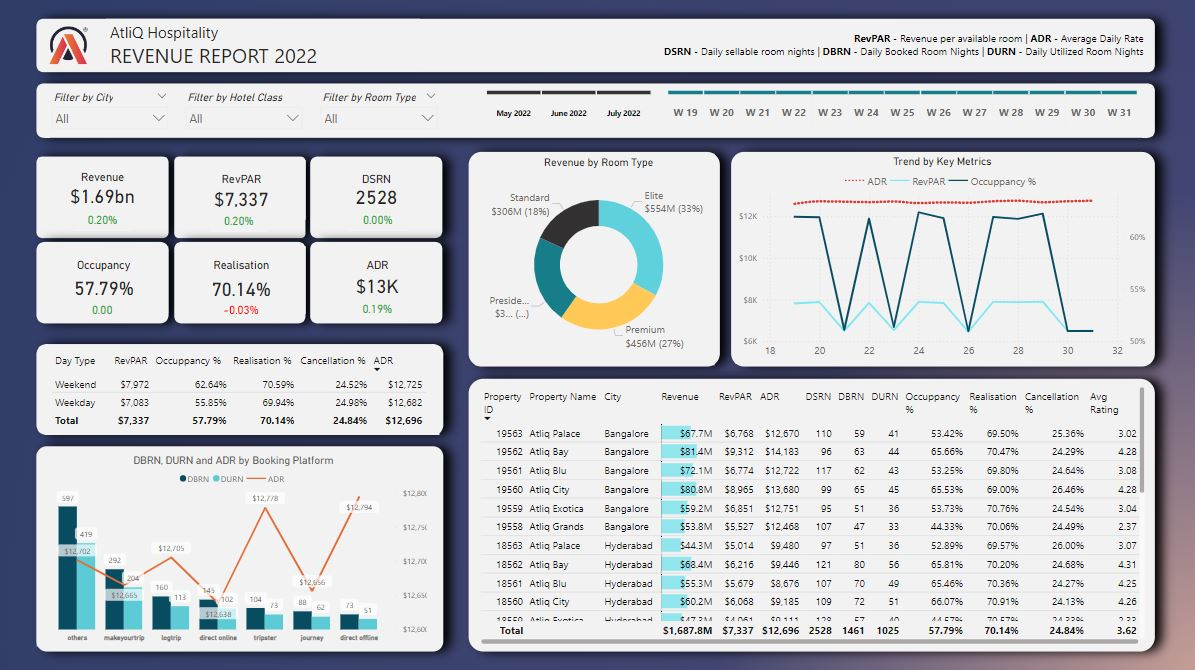

The dashboard page shown, as its layout file describes it:
{"tool":"powerbi","page":{"name":"Revenue Report","canvas":[1920,1080],"ordinal":0},"visuals":[{"type":"card","title":"Revenue","fields":{"Values":["base_measures.Revenue"]},"box":[63.8,252.5,206.2,95],"z":0},{"type":"card","title":"DSRN","fields":{"Values":["base_measures.DSRN"]},"box":[502.5,256.2,206.2,91.2],"z":0},{"type":"card","title":"Occupancy","fields":{"Values":["base_measures.Occuppancy %"]},"box":[66.3,394,206,105.8],"z":0},{"type":"tableEx","fields":{"Values":["dim_hotels.property_id","dim_hotels.property_name","dim_hotels.city","base_measures.Revenue","base_measures.RevPAR","base_measures.ADR","base_measures.DSRN","base_measures.DBRN","base_measures.DURN","base_measures.Occuppancy %","base_measures.Realisation %","base_measures.Cancellation Rate %"]},"box":[766,614,1074,422],"z":0},{"type":"slicer","fields":{"Values":["dim_hotels.city"]},"box":[76,140,206,72],"z":1000,"group":"g1"},{"type":"lineChart","title":"Trend by Key Metrics","fields":{"Y":["base_measures.ADR","base_measures.RevPAR"],"Category":["dim_date.wn"],"Y2":["base_measures.Occuppancy %"]},"box":[1180,248,662,334],"z":1000},{"type":"card","title":"RevPAR","fields":{"Values":["base_measures.RevPAR"]},"box":[285,256.2,206.2,95],"z":1000},{"type":"card","fields":{"Values":["base_measures.DSRN WoW Change %"]},"box":[557.5,333.8,98.8,36.2],"z":1000},{"type":"card","fields":{"Values":["base_measures.Revenue WoW Change %"]},"box":[122.5,336.2,90,33.8],"z":1000},{"type":"card","fields":{"Values":["base_measures.Occupancy WoW Change %"]},"box":[92.9,478.8,148.8,35.2],"z":1000},{"type":"slicer","fields":{"Values":["dim_rooms.room_class"]},"box":[506.4,140,206.5,71.2],"z":2000,"group":"g1"},{"type":"donutChart","title":"Revenue by Room Type","fields":{"Y":["base_measures.Revenue"],"Series":["dim_rooms.room_class"],"Category":["dim_rooms.room_class"]},"box":[764,246,382,338],"z":2000},{"type":"card","title":"Realisation","fields":{"Values":["base_measures.Realisation %"]},"box":[285.3,394,206,108],"z":2000},{"type":"card","title":"ADR","fields":{"Values":["base_measures.ADR"]},"box":[503.3,394,206,100.1],"z":2000},{"type":"card","fields":{"Values":["base_measures.RevPAR WoW Change %"]},"box":[337.5,335,93.8,35],"z":3000},{"type":"card","fields":{"Values":["base_measures.ADR WoW Change %"]},"box":[532,475.4,148.8,38.6],"z":3000},{"type":"card","fields":{"Values":["base_measures.Realisation WoW Change %"]},"box":[313.9,478,148.8,36],"z":3000},{"type":"lineClusteredColumnComboChart","fields":{"Category":["fact_bookings.booking_platform"],"Y":["base_measures.DBRN","base_measures.DURN"],"Y2":["base_measures.ADR"]},"box":[62,726,634,308],"z":3000},{"type":"slicer","fields":{"Values":["dim_date.Week Num"]},"box":[1046,138,800,78],"z":4000},{"type":"tableEx","fields":{"Values":["dim_date.day_type","base_measures.RevPAR","base_measures.Occuppancy %","base_measures.Realisation %","base_measures.Cancellation %","base_measures.ADR"]},"box":[80,556,626,140],"z":4000},{"type":"image","box":[70,36,86,72],"z":6000},{"type":"slicer","fields":{"Values":["dim_hotels.category"]},"box":[291,140,206.5,71.2],"z":7000,"group":"g1"},{"type":"textbox","box":[1052,44,786,60],"z":7000},{"type":"group","id":"g1","title":"Group 10","box":[76,140,638,72],"z":8000},{"type":"textbox","box":[173.3,30,500,85],"z":9000},{"type":"slicer","fields":{"Values":["dim_date.mmm yy (bins)"]},"box":[756,138,312,80],"z":11505}]}

Visuals, with their boxes in screenshot pixels (x1, y1, x2, y2), scaled from the page's 1920x1080 canvas onto the 1195x670 screenshot:
"Revenue" card: region(40, 157, 168, 216)
"DSRN" card: region(313, 159, 441, 216)
"Occupancy" card: region(41, 244, 169, 310)
tableEx - dim_hotels.property_id x dim_hotels.property_name: region(477, 381, 1145, 643)
slicer - dim_hotels.city: region(47, 87, 176, 132)
"Trend by Key Metrics" lineChart: region(734, 154, 1146, 361)
"RevPAR" card: region(177, 159, 306, 218)
card - base_measures.DSRN WoW Change %: region(347, 207, 408, 230)
card - base_measures.Revenue WoW Change %: region(76, 209, 132, 230)
card - base_measures.Occupancy WoW Change %: region(58, 297, 150, 319)
slicer - dim_rooms.room_class: region(315, 87, 444, 131)
"Revenue by Room Type" donutChart: region(476, 153, 713, 362)
"Realisation" card: region(178, 244, 306, 311)
"ADR" card: region(313, 244, 441, 307)
card - base_measures.RevPAR WoW Change %: region(210, 208, 268, 230)
card - base_measures.ADR WoW Change %: region(331, 295, 424, 319)
card - base_measures.Realisation WoW Change %: region(195, 297, 288, 319)
lineClusteredColumnComboChart - fact_bookings.booking_platform x base_measures.DBRN: region(39, 450, 433, 641)
slicer - dim_date.Week Num: region(651, 86, 1149, 134)
tableEx - dim_date.day_type x base_measures.RevPAR: region(50, 345, 439, 432)
image: region(44, 22, 97, 67)
slicer - dim_hotels.category: region(181, 87, 310, 131)
textbox: region(655, 27, 1144, 65)
"Group 10" group: region(47, 87, 444, 132)
textbox: region(108, 19, 419, 71)
slicer - dim_date.mmm yy (bins): region(471, 86, 665, 135)
